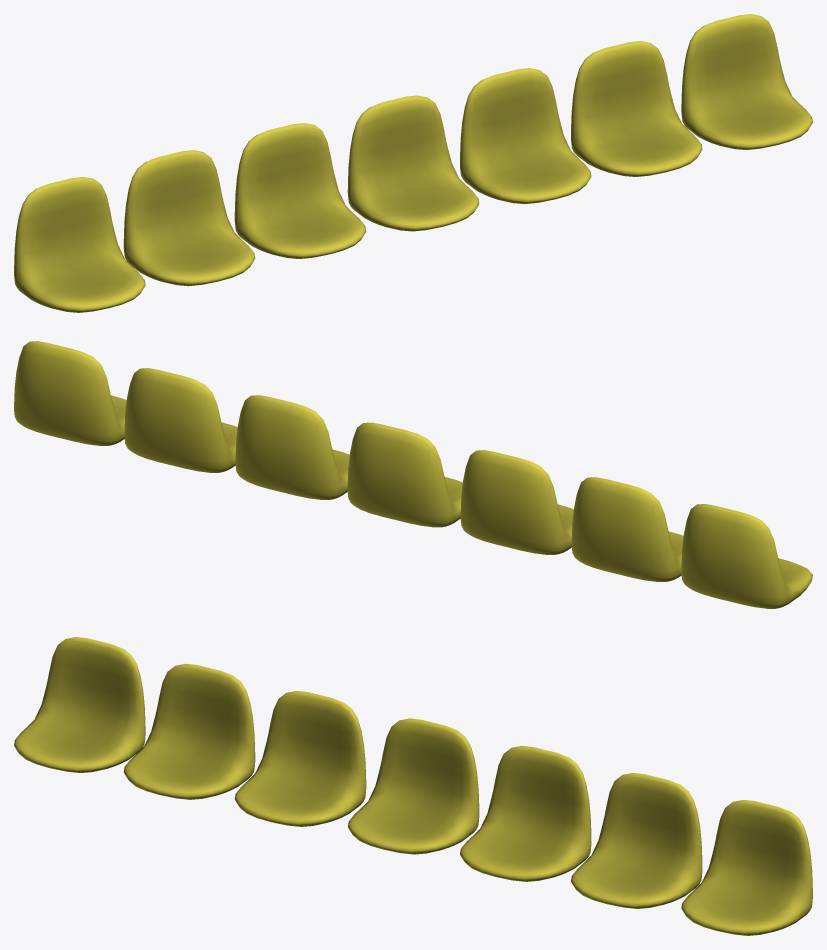
The picture shows the model from 3 angles, top to bottom: view 1: azimuth 30°, elevation 25°; view 2: azimuth 150°, elevation 25°; view 3: azimuth 330°, elevation 25°; orthographic projection.
Parts seen in each view (by area): view 1: color12; view 2: color12; view 3: color12.
Part boxes in pixels (bbox=[...]): color12: bbox=[14, 14, 812, 312]; color12: bbox=[14, 341, 812, 608]; color12: bbox=[14, 637, 812, 935].
Bounding box in the file's own units: 0.5 × 0.0598 × 0.0627.
